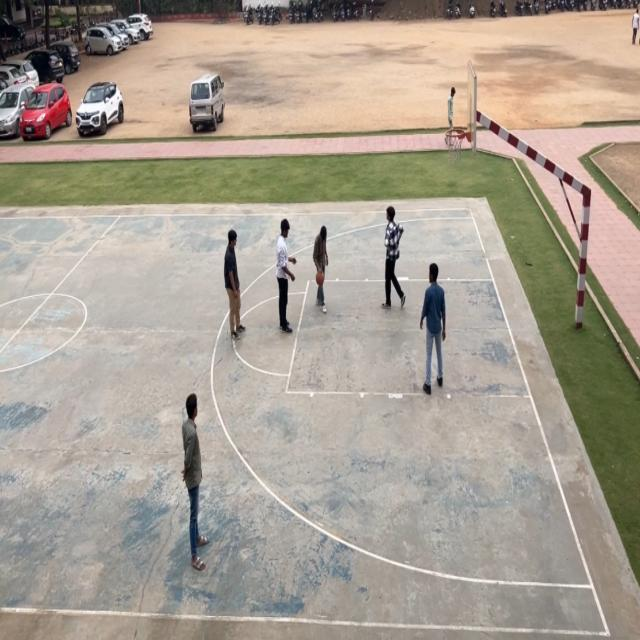basketball: (314, 265, 324, 286)
hoop: (442, 126, 466, 166)
